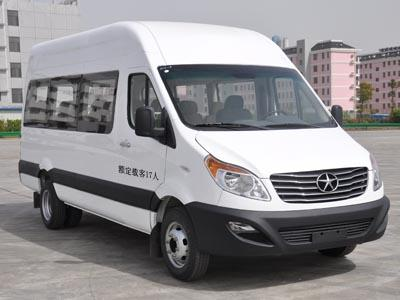midcar: (19, 19, 394, 276)
